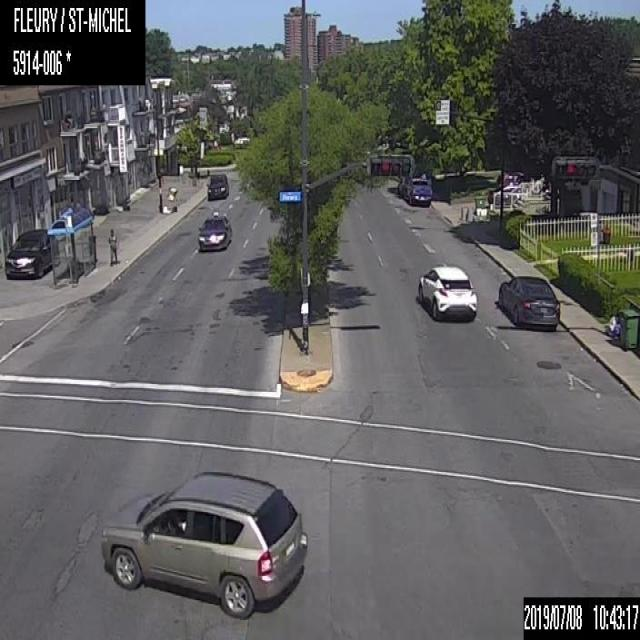pedestrian: (108, 227, 118, 265)
vehicle: (100, 469, 307, 619), (495, 272, 560, 327), (416, 263, 478, 320), (2, 226, 60, 280), (195, 210, 232, 250), (404, 177, 430, 203), (206, 170, 229, 198)
